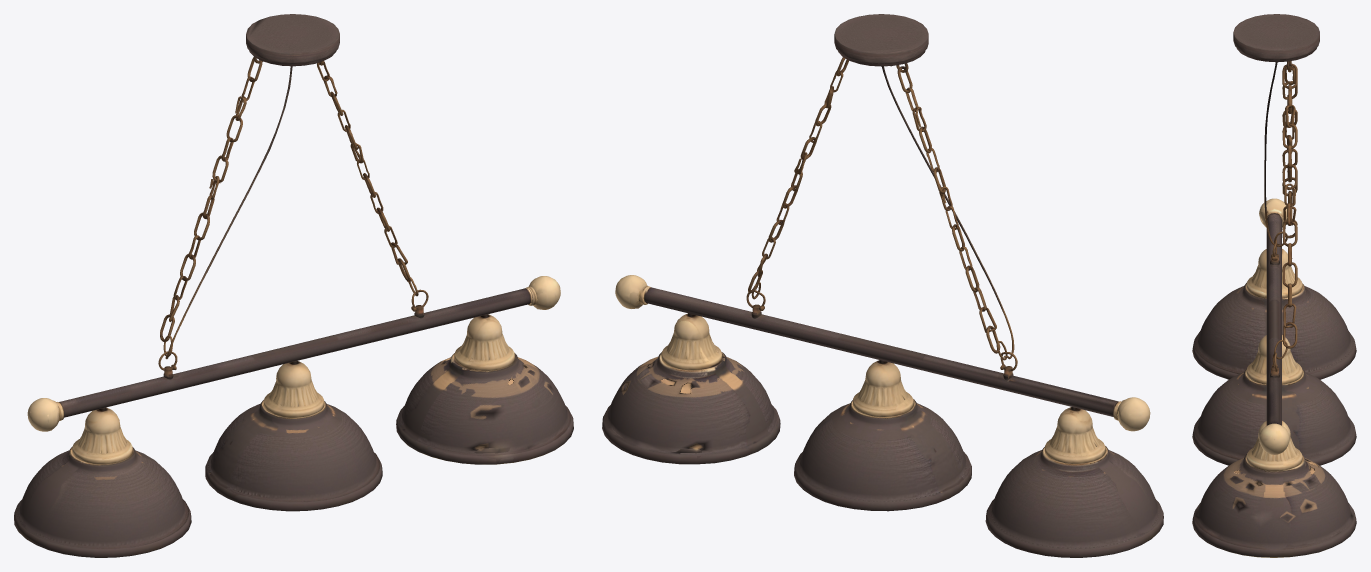
Rendered from three-light+chandelier+3d+model.fbx.
3 renders of one model, left to right at view 1: azimuth 30°, elevation 25°; view 2: azimuth 150°, elevation 25°; view 3: azimuth 270°, elevation 25°, orthographic. The views are drawn at different scales.
Parts seen in each view (by area): view 1: tripo_node_d3b2b091-8e26-4bdb-8b6a-995deb3ee6b0; view 2: tripo_node_d3b2b091-8e26-4bdb-8b6a-995deb3ee6b0; view 3: tripo_node_d3b2b091-8e26-4bdb-8b6a-995deb3ee6b0.
Part boxes in pixels (x1,y1,x2,y2): tripo_node_d3b2b091-8e26-4bdb-8b6a-995deb3ee6b0: (14,14,573,557); tripo_node_d3b2b091-8e26-4bdb-8b6a-995deb3ee6b0: (602,14,1163,557); tripo_node_d3b2b091-8e26-4bdb-8b6a-995deb3ee6b0: (1192,14,1356,557).
Size of the model in its own units: 0.9995 by 0.7964 by 0.2876.
Materials: 1 (1 with a texture image).
